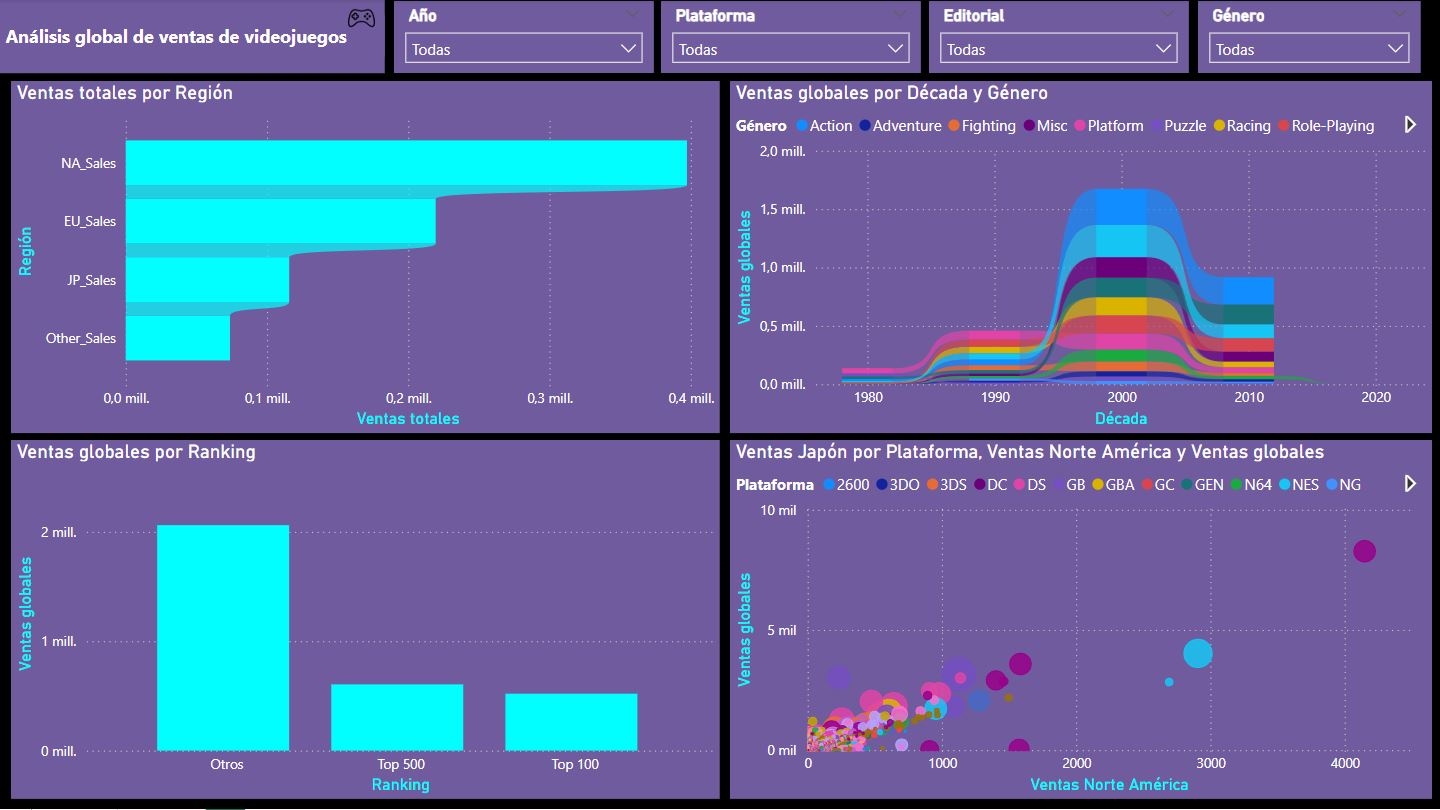

This screenshot's page, from the dashboard's own definition file:
{"tool":"powerbi","page":{"name":"Página 2","canvas":[1280,720],"ordinal":1},"visuals":[{"type":"slicer","fields":{"Values":["vgsales.Year"]},"box":[350.2,1.8,231.1,64],"z":0},{"type":"slicer","fields":{"Values":["vgsales.Platform"]},"box":[587.6,1.8,231.1,64],"z":1000},{"type":"slicer","fields":{"Values":["vgsales.Genre"]},"box":[1064.9,1.8,198.2,64],"z":2000},{"type":"slicer","fields":{"Values":["vgsales.Publisher"]},"box":[825.8,1.8,231.1,64],"z":3000},{"type":"shape","box":[0,0,342.2,65.8],"z":4000},{"type":"barChart","fields":{"Category":["vgsales.Región"],"Y":["Sum(vgsales.Ventas)"]},"box":[9.8,72.9,630.2,312.9],"z":5000},{"type":"ribbonChart","fields":{"Category":["vgsales.Década"],"Y":["Sum(vgsales.Global_Sales)"],"Series":["vgsales.Genre"]},"box":[648.9,72.9,624,312.9],"z":6000},{"type":"columnChart","fields":{"Category":["vgsales.Ranking"],"Y":["Sum(vgsales.Global_Sales)"]},"box":[9.8,392,630.2,319.1],"z":7000},{"type":"scatterChart","fields":{"X":["vgsales.NA_Sales"],"Y":["vgsales.Global_Sales"],"Size":["Sum(vgsales.JP_Sales)"],"Series":["vgsales.Platform"]},"box":[649,392,624,319],"z":8000},{"type":"image","box":[301.3,0,40.9,33.8],"z":9000}]}

Visuals, with their boxes in screenshot pixels (x1, y1, x2, y2), scaled from the page's 1280x720 canvas onto the 1440x810 screenshot:
slicer - vgsales.Year: Rect(394, 2, 654, 74)
slicer - vgsales.Platform: Rect(661, 2, 921, 74)
slicer - vgsales.Genre: Rect(1198, 2, 1421, 74)
slicer - vgsales.Publisher: Rect(929, 2, 1189, 74)
shape: Rect(0, 0, 385, 74)
barChart - vgsales.Región x Sum(vgsales.Ventas): Rect(11, 82, 720, 434)
ribbonChart - vgsales.Década x Sum(vgsales.Global_Sales): Rect(730, 82, 1432, 434)
columnChart - vgsales.Ranking x Sum(vgsales.Global_Sales): Rect(11, 441, 720, 800)
scatterChart - vgsales.NA_Sales x vgsales.Global_Sales: Rect(730, 441, 1432, 800)
image: Rect(339, 0, 385, 38)
